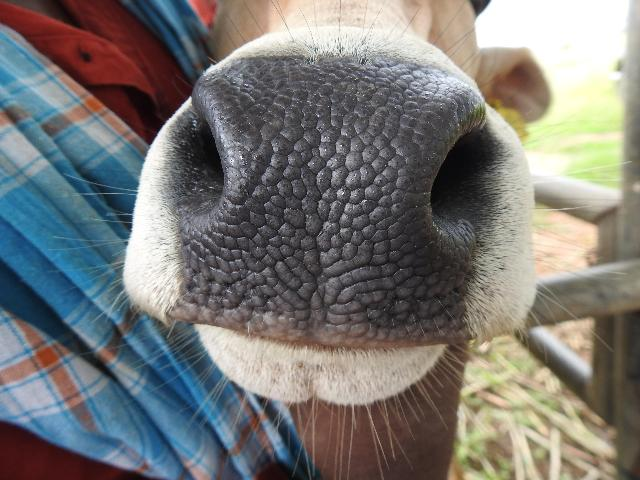Muzzle: (210, 66, 434, 338)
